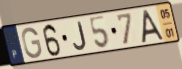5: (87, 14, 112, 51)
6: (41, 23, 62, 58)
7: (116, 11, 135, 47)
A: (141, 8, 166, 45)
G: (21, 26, 43, 60)
J: (72, 20, 88, 51)
